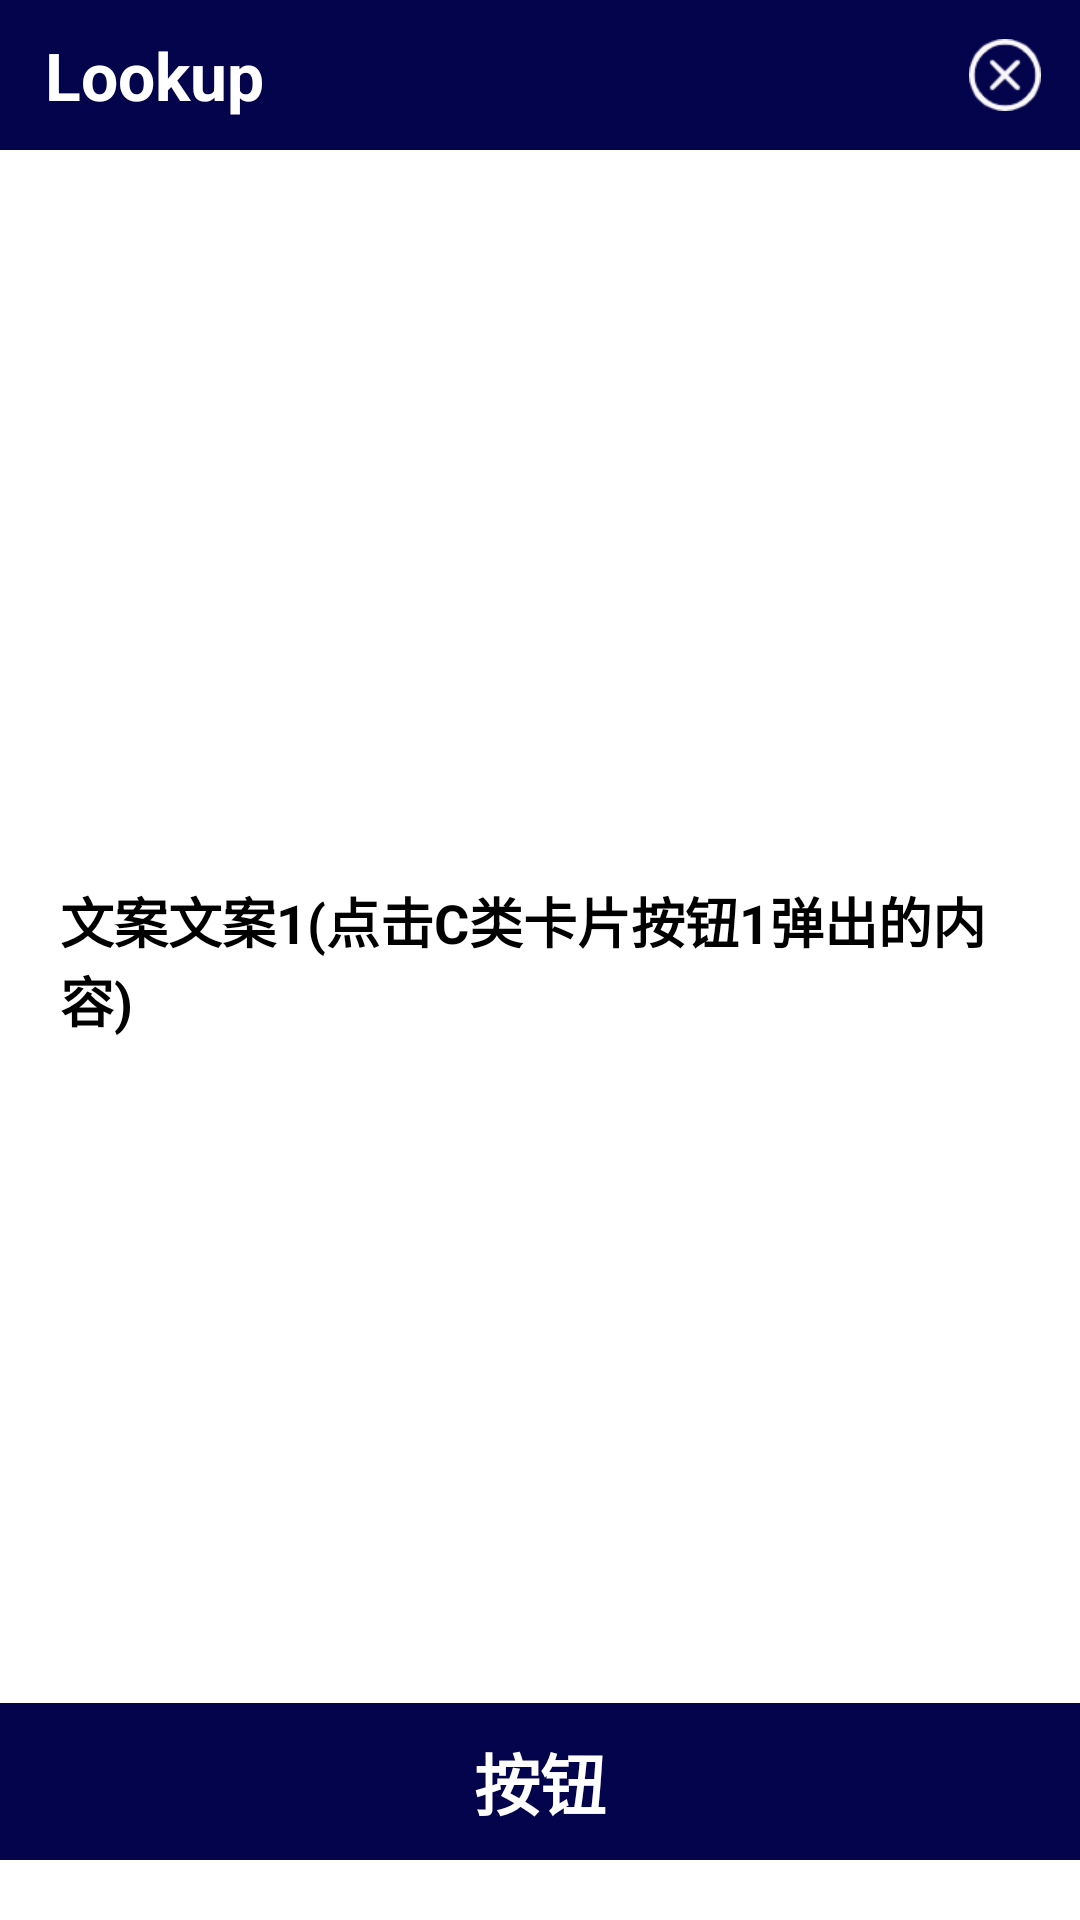

Named icons in this screenshot (1080 × 1920) and their bounding boxes, (x1, y1, x2, y2):
close: (969, 39, 1041, 111)
